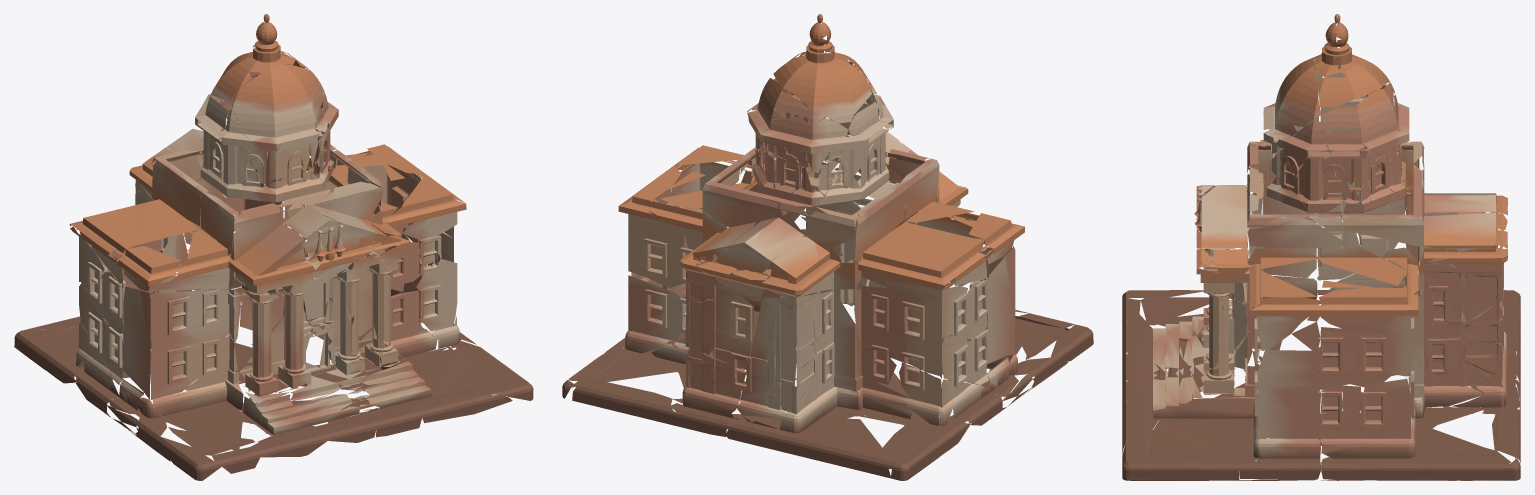
File: hero-courthouse.glb
The picture shows the model from 3 angles, left to right: view 1: azimuth 30°, elevation 25°; view 2: azimuth 150°, elevation 25°; view 3: azimuth 270°, elevation 25°; orthographic projection. The views are drawn at different scales.
Visible parts, largest first — view 1: world; view 2: world; view 3: world.
Boxes of the visible parts, bbox=[...] form: world: bbox=[14, 14, 533, 480]; world: bbox=[562, 14, 1093, 480]; world: bbox=[1122, 14, 1520, 480].
Size of the model in its own units: 2.7 by 2.7 by 2.57.
